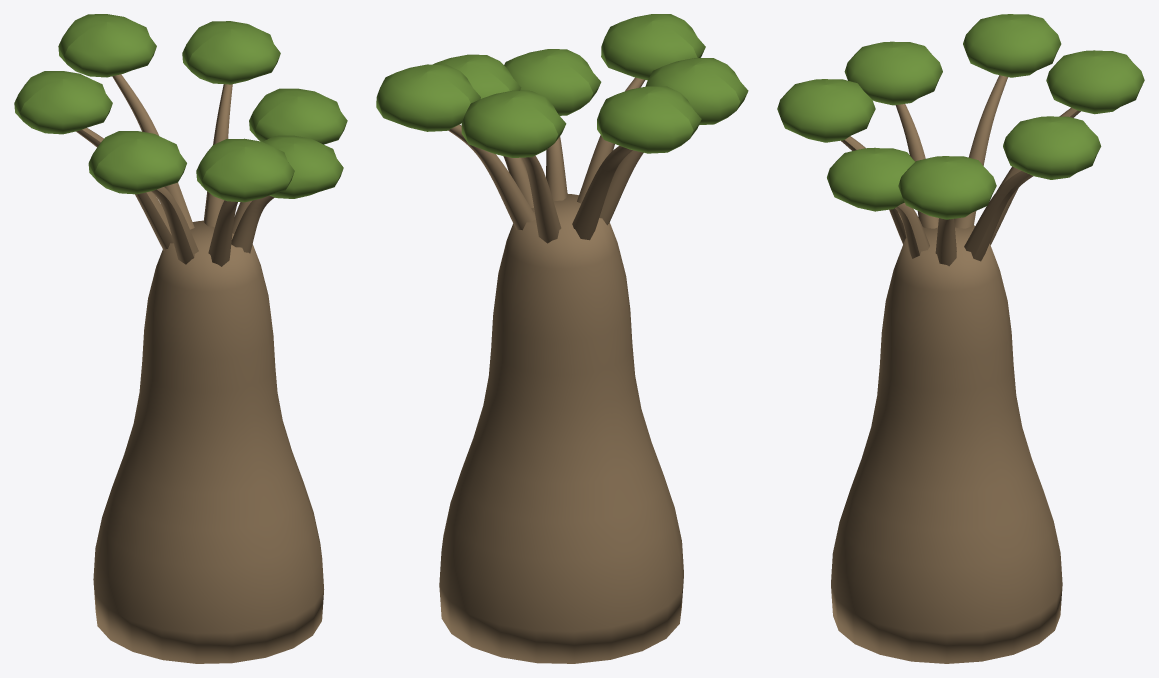
The model's file is baobab.glb.
The picture shows the model from 3 angles, left to right: view 1: azimuth 30°, elevation 25°; view 2: azimuth 150°, elevation 25°; view 3: azimuth 270°, elevation 25°; orthographic projection. The views are drawn at different scales.
Visible parts, largest first — view 1: Baobab; view 2: Baobab; view 3: Baobab.
Boxes of the visible parts, x1,y1,x2,y2 form: Baobab: [14, 14, 347, 663]; Baobab: [376, 14, 748, 663]; Baobab: [777, 14, 1144, 663].
Size of the model in its own units: 4.38 by 7.95 by 4.85.
